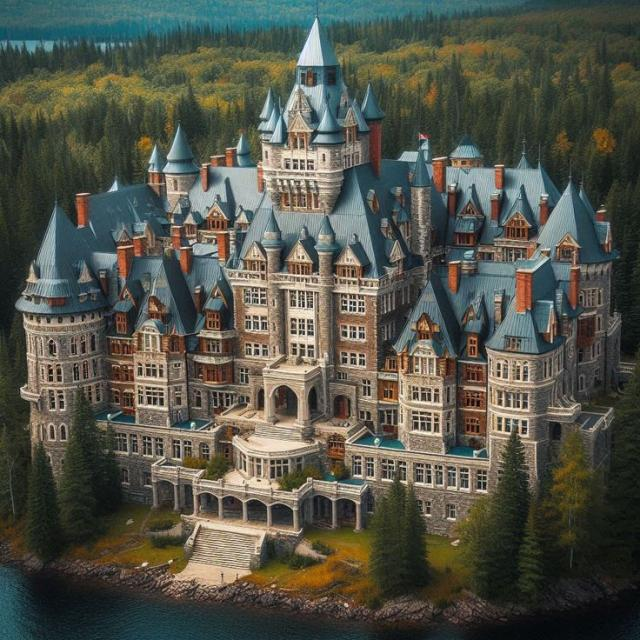castle: (16, 0, 620, 519)
